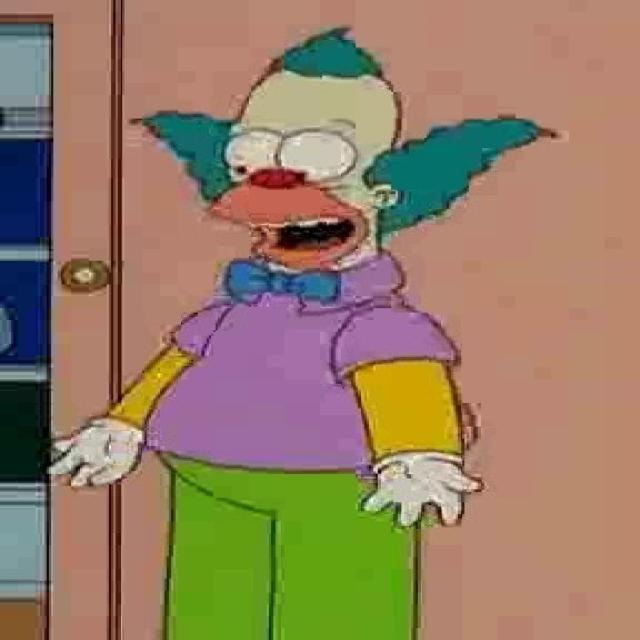Krusty the Clown: (130, 28, 559, 286)
